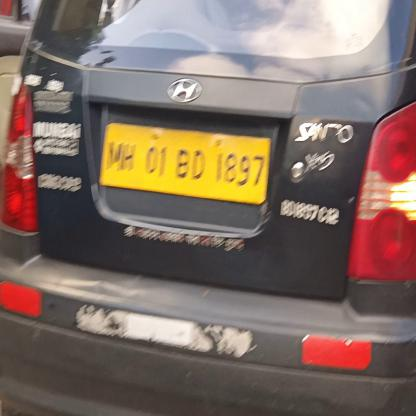license_plate: (100, 120, 271, 204)
